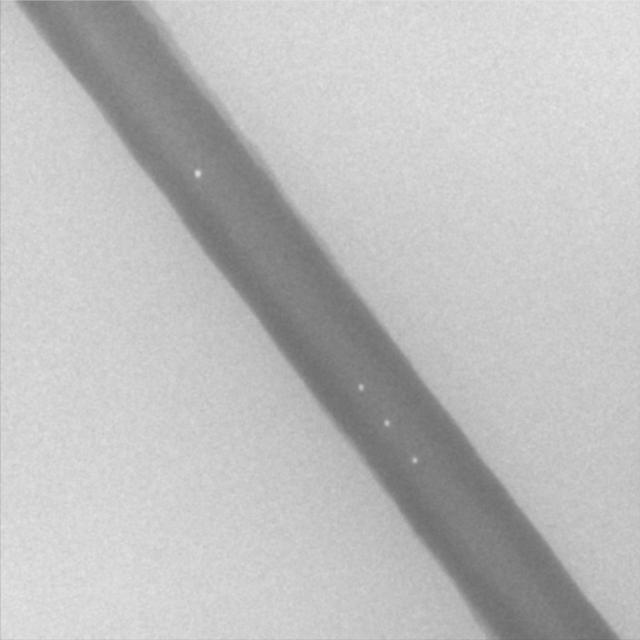air hole: (193, 167, 202, 179), (382, 417, 390, 427), (357, 381, 364, 392), (410, 454, 417, 464)
